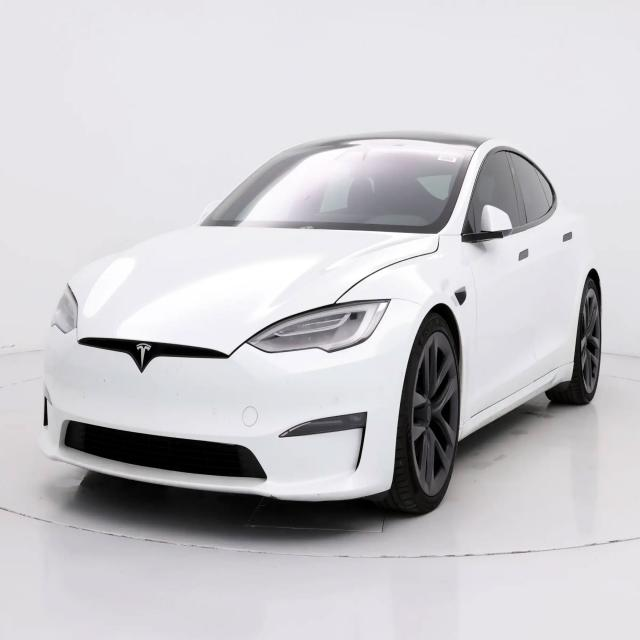car: (31, 118, 618, 532)
